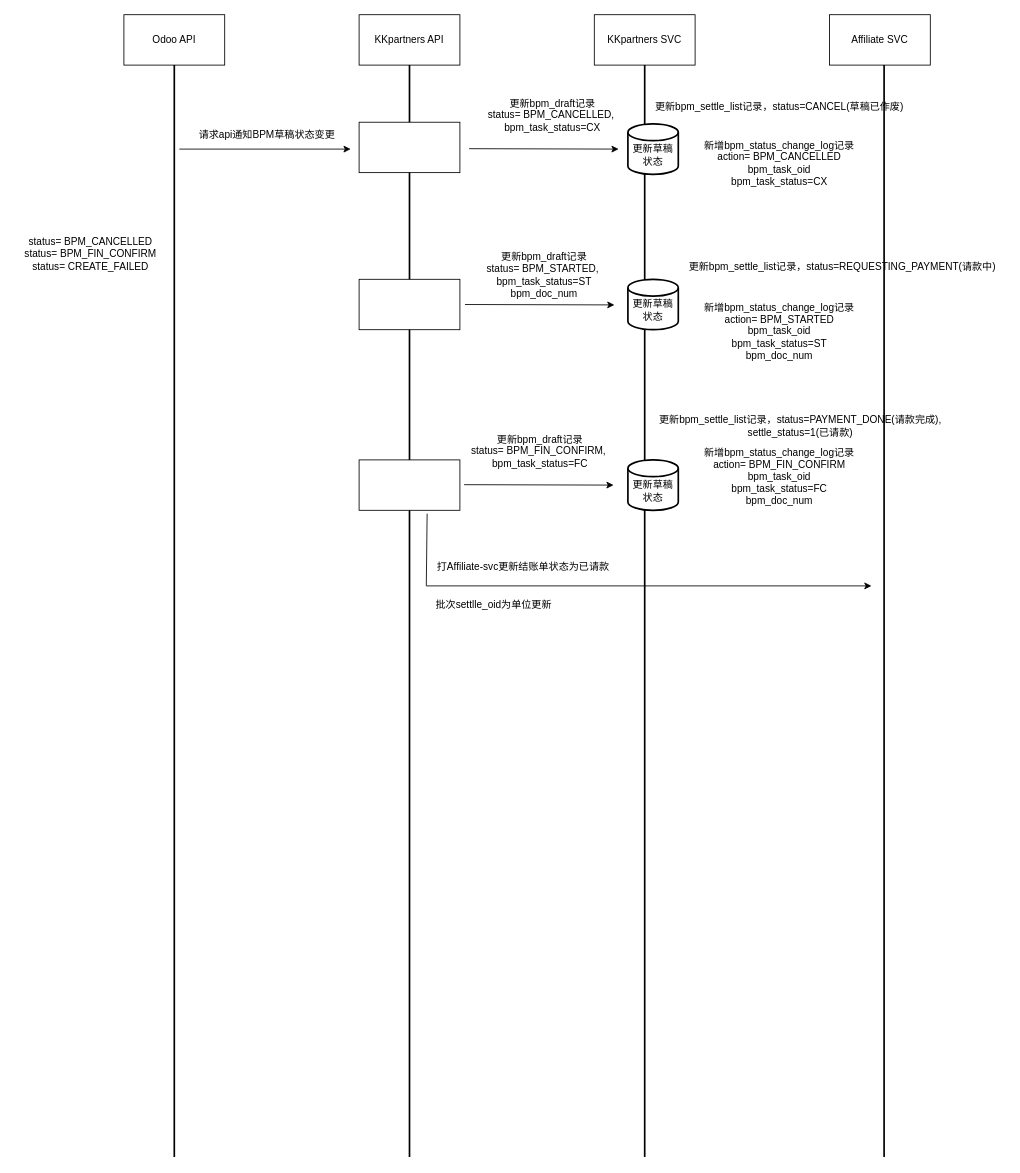
Image size: 1020x1173. Some labels were removed from this diagram. Here are the shapes that lost their labels. From the top down, the box of each, then its label:
(358, 121, 460, 173): task_status=CX
(358, 278, 460, 330): task_status=ST
(358, 459, 460, 510): task_status=FC
